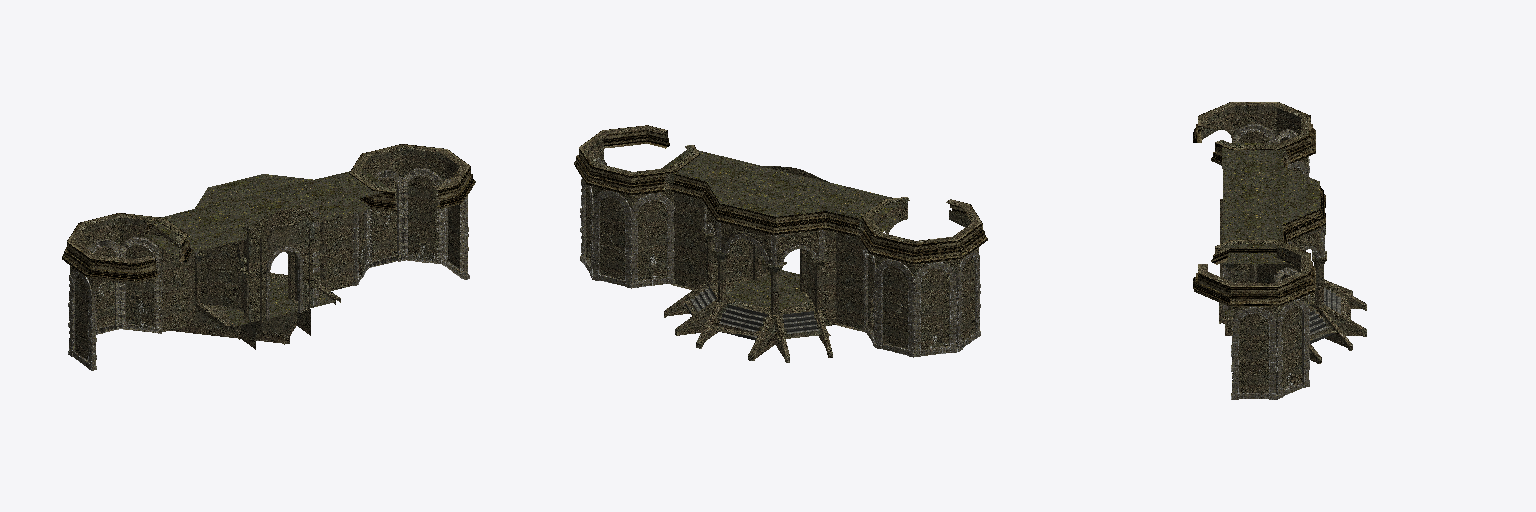
3 renders of one model, left to right at view 1: azimuth 30°, elevation 25°; view 2: azimuth 150°, elevation 25°; view 3: azimuth 270°, elevation 25°, orthographic.
Parts seen in each view (by area): view 1: mesh8, mesh1, mesh4, mesh9, mesh10, mesh12, mesh11, mesh7, mesh5, mesh6; view 2: mesh8, mesh4, mesh10, mesh1, mesh9, mesh6, mesh11, mesh3, mesh7, mesh12; view 3: mesh1, mesh10, mesh8, mesh4, mesh12, mesh9, mesh11, mesh6, mesh3.
Boxes of the visible parts, x1,y1,x2,y2 form: mesh8: [75, 175, 459, 359]; mesh1: [145, 169, 386, 296]; mesh4: [68, 168, 469, 370]; mesh9: [170, 207, 340, 349]; mesh10: [62, 144, 475, 282]; mesh12: [70, 148, 459, 295]; mesh11: [69, 145, 467, 262]; mesh7: [224, 278, 334, 326]; mesh5: [96, 213, 434, 327]; mesh6: [67, 255, 330, 322]; mesh8: [586, 184, 974, 349]; mesh4: [580, 158, 980, 357]; mesh10: [574, 125, 987, 264]; mesh1: [661, 150, 901, 270]; mesh9: [664, 166, 832, 362]; mesh6: [595, 173, 974, 340]; mesh11: [582, 126, 979, 261]; mesh3: [685, 286, 818, 340]; mesh7: [727, 270, 807, 309]; mesh12: [590, 138, 978, 276]; mesh1: [1222, 143, 1319, 263]; mesh10: [1193, 102, 1325, 306]; mesh8: [1220, 130, 1301, 392]; mesh4: [1223, 123, 1324, 399]; mesh12: [1201, 106, 1307, 322]; mesh9: [1219, 226, 1366, 363]; mesh11: [1201, 103, 1320, 285]; mesh6: [1257, 147, 1350, 340]; mesh3: [1309, 287, 1340, 343].
Size of the model in its own units: 30.58 by 10.05 by 11.82.
13 materials, 8 textured.